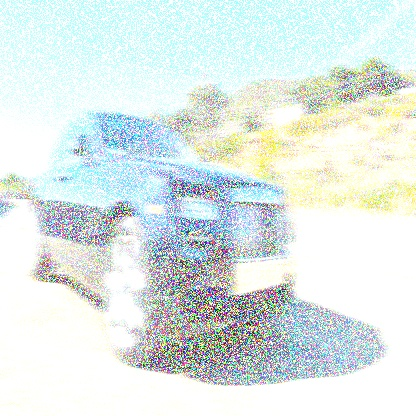Vehicle: (29, 110, 297, 368)
